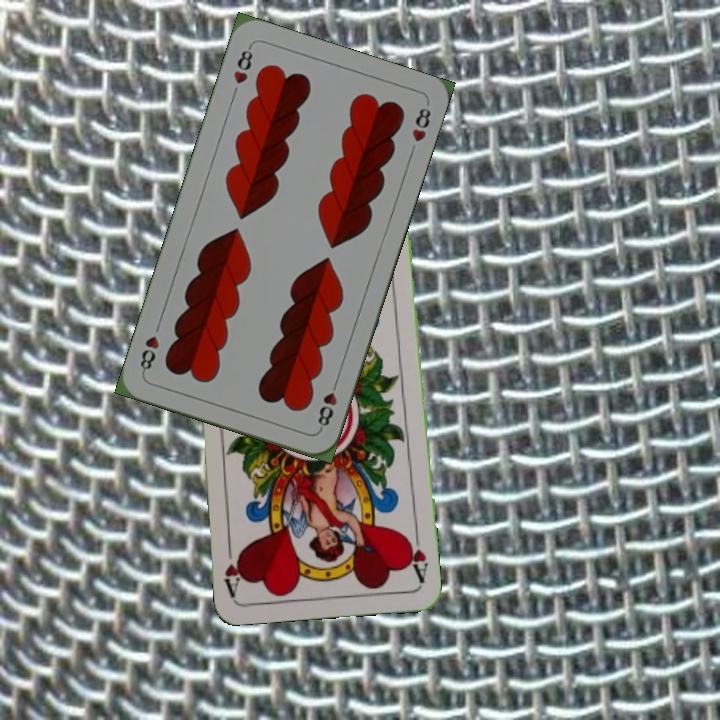H8: (313, 375, 341, 433), (229, 42, 256, 87)
HA: (402, 526, 431, 585)
